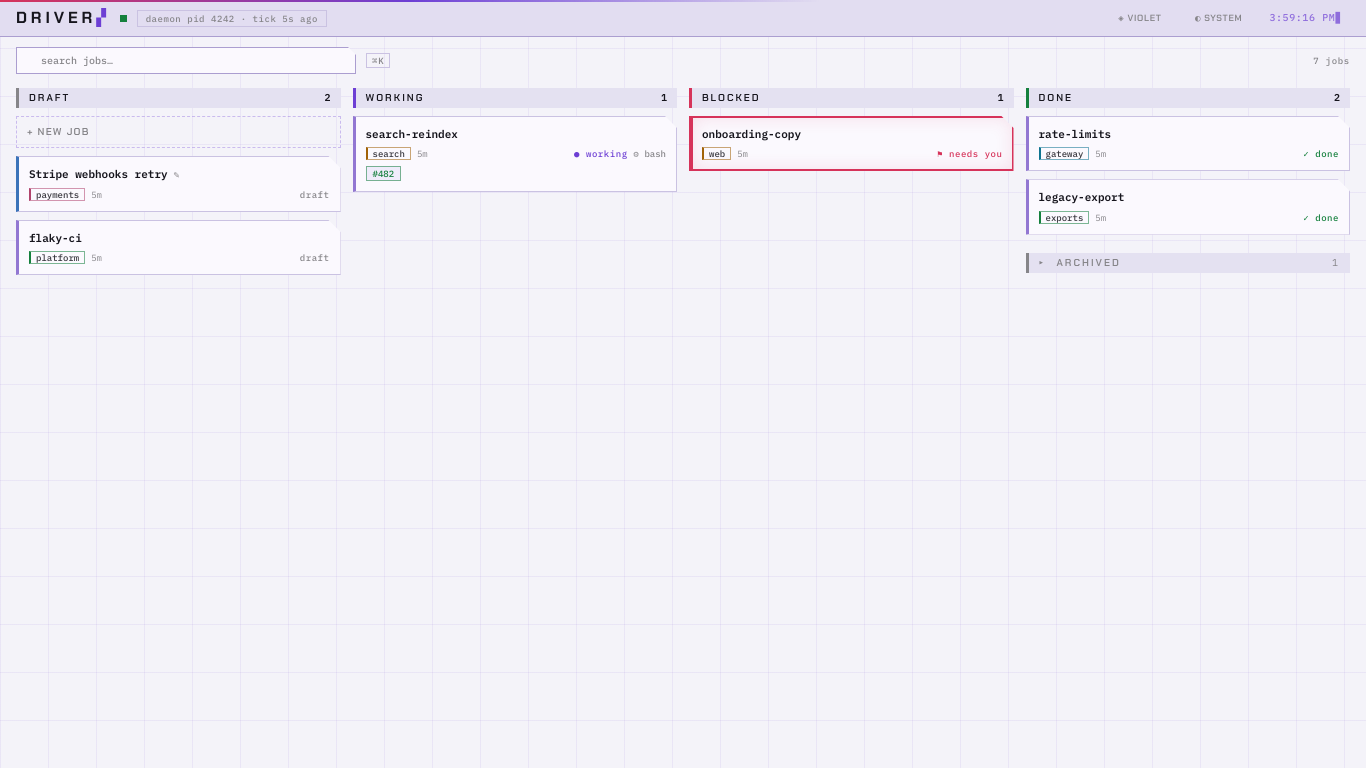
Scenario: BoardView (DOM smoke test) › autosaves the launch form once, 600ms after typing, under the optimistic lock
The width and height of the screenshot is (1366, 768).
Click the button "flaky-ci platform 5m draft" at [55, 238], box [16,220,340,275]
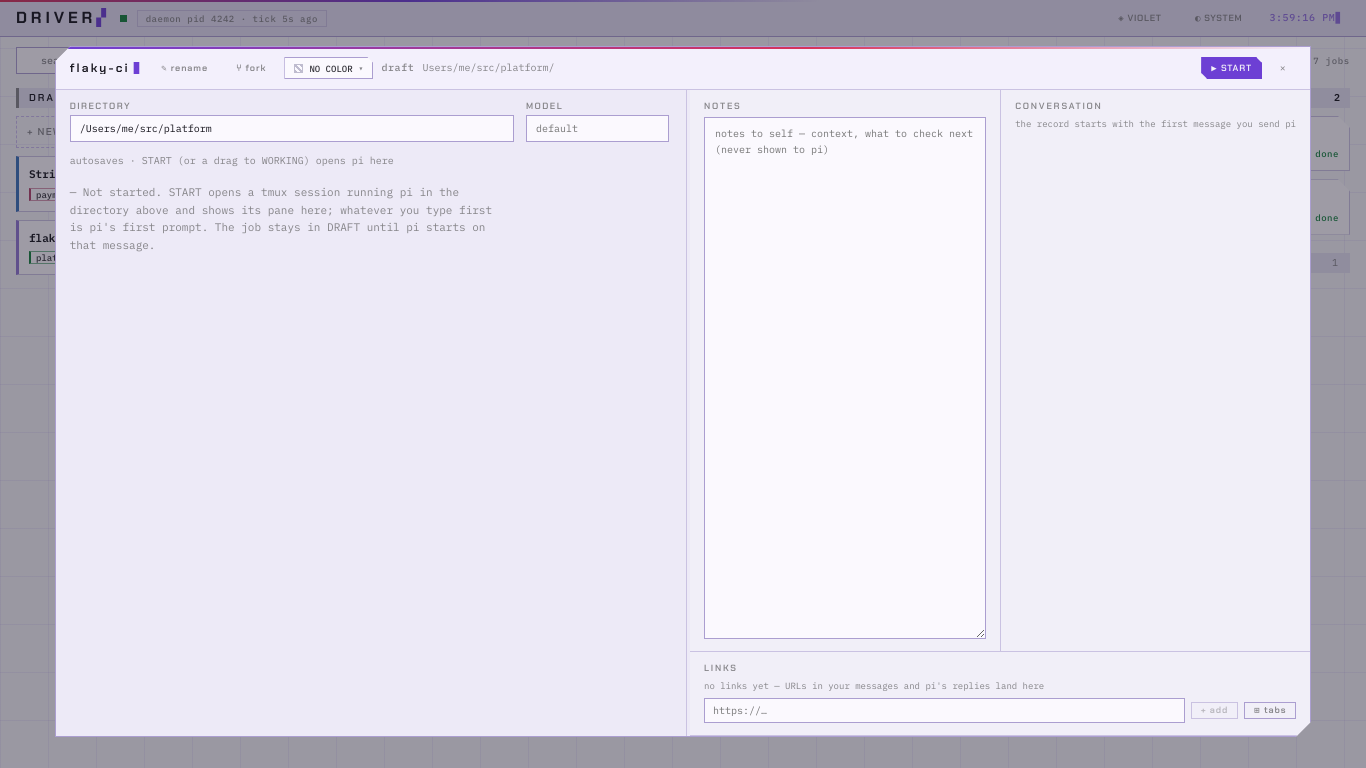
Type "anthropic/claude-" into the field labelled "MODEL" at [598, 129], box [526,115,669,142]
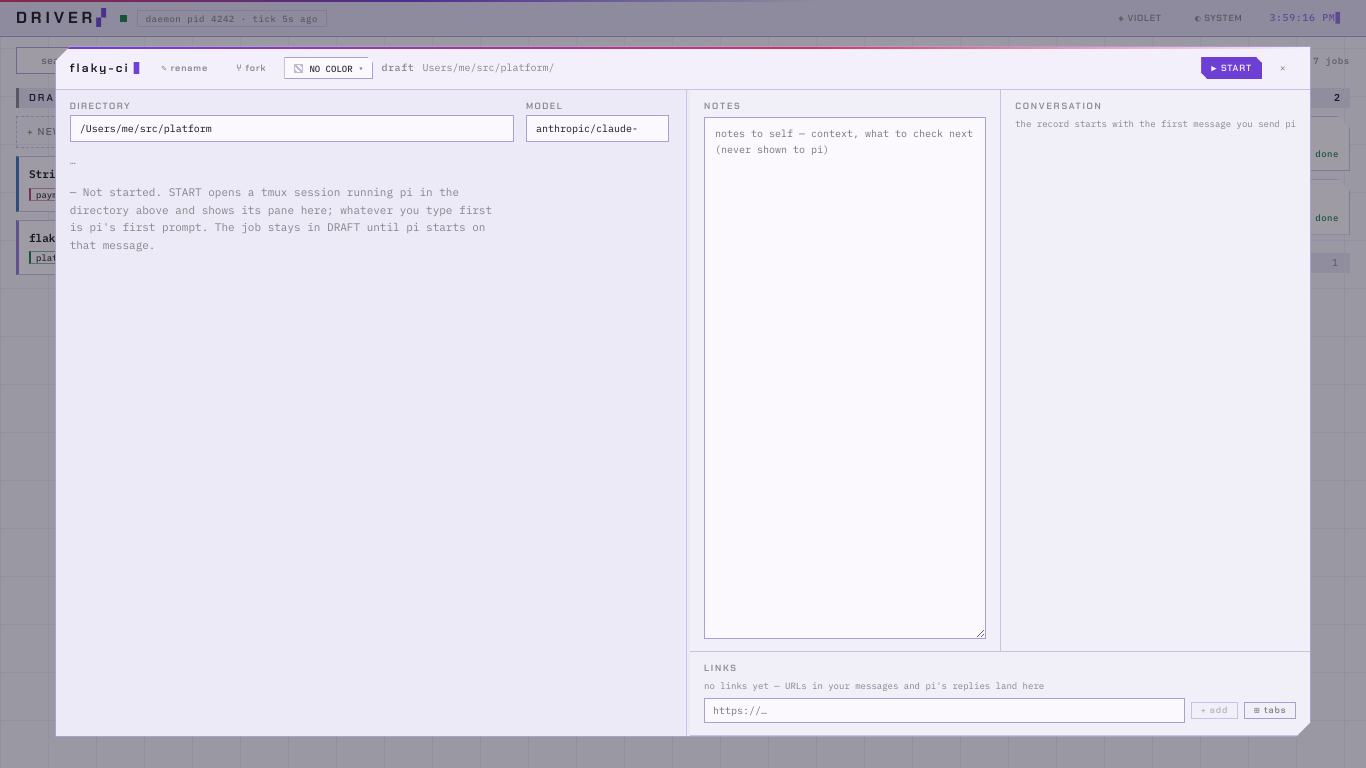
Replace the text in the field labelled "MODEL" with "anthropic/claude-sonnet-4-5" at [598, 129], box [526,115,669,142]
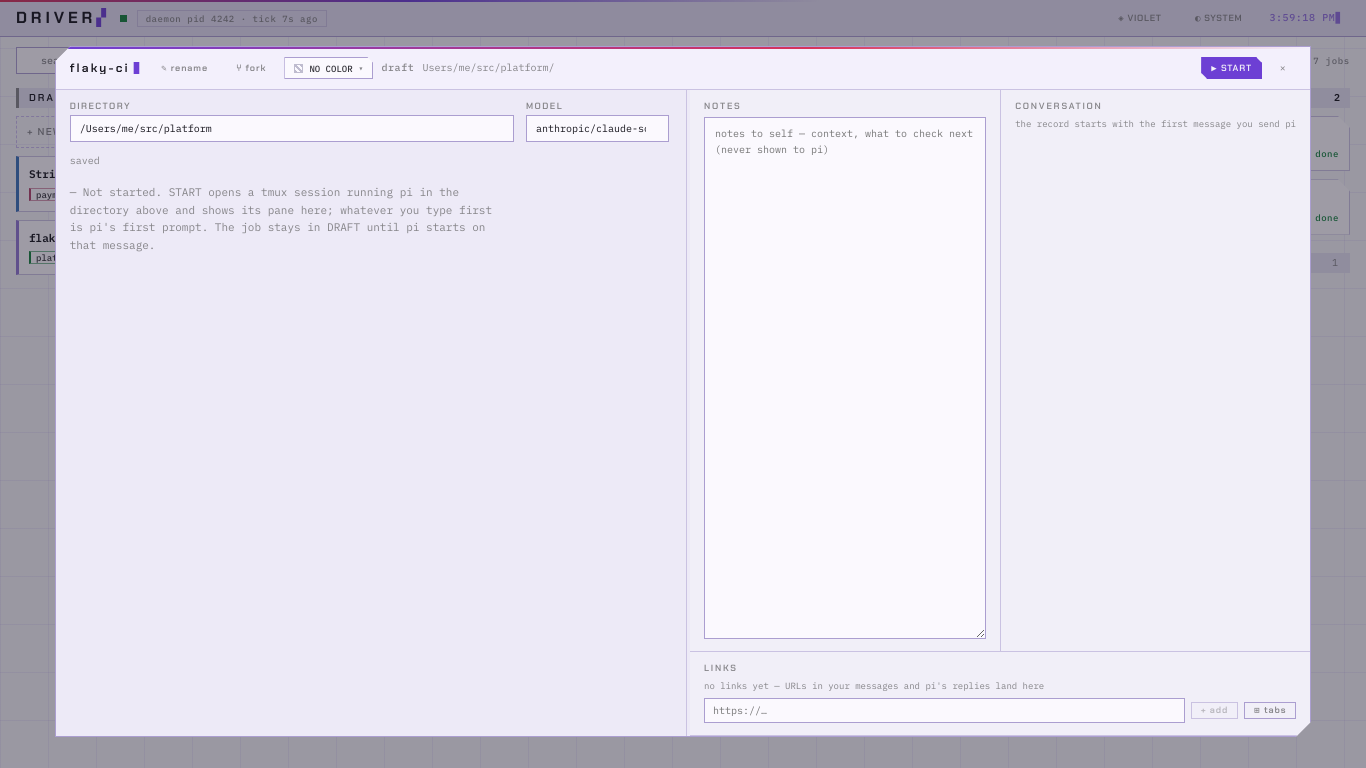
Expected: the 2nd text "flaky-ci" is shown, [29,231,82,245]
Now the text "saved" is shown, box [70,154,100,168]
